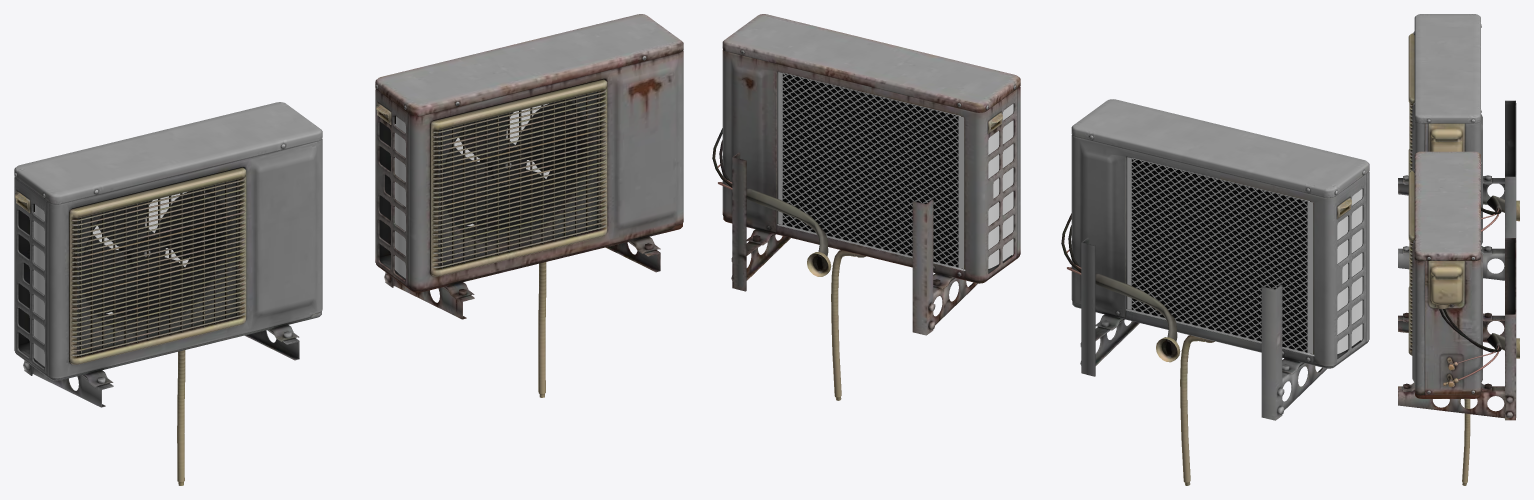
Rendered from exterior_aircon_unit.glb.
3 views of the same model, side by side, from view 1: azimuth 30°, elevation 25°; view 2: azimuth 150°, elevation 25°; view 3: azimuth 270°, elevation 25° (orthographic). The views are drawn at different scales.
Visible parts, largest first — view 1: exterior_aircon_unit_rusted, exterior_aircon_unit; view 2: exterior_aircon_unit, exterior_aircon_unit_rusted; view 3: exterior_aircon_unit_rusted, exterior_aircon_unit.
Boxes of the visible parts, x1=… form: exterior_aircon_unit_rusted: x1=375, y1=14, x2=683, y2=397; exterior_aircon_unit: x1=14, y1=102, x2=322, y2=485; exterior_aircon_unit: x1=1061, y1=99, x2=1369, y2=485; exterior_aircon_unit_rusted: x1=712, y1=14, x2=1020, y2=400; exterior_aircon_unit_rusted: x1=1398, y1=151, x2=1519, y2=485; exterior_aircon_unit: x1=1398, y1=14, x2=1519, y2=280.
Size of the model in its own units: 1.8 by 0.9279 by 0.3742.
4 materials, 4 textured.
